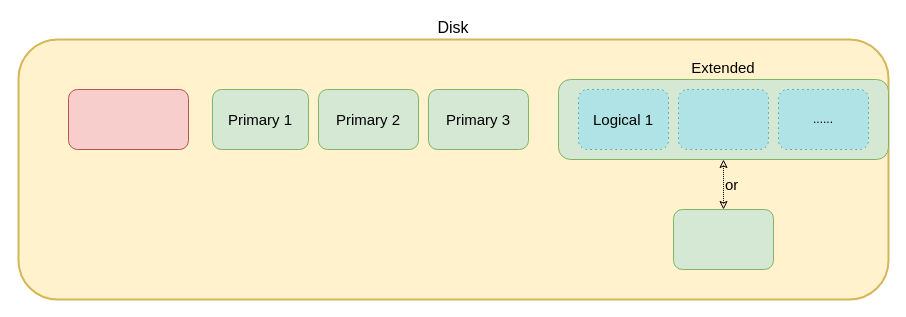
Some shapes in this 906 by 317 pixel diagram are drawn without their labels. Here are the shapes that lost their labels. From the top down, the centre of each, then its label:
At point 128,119: "MBR".
At point 723,119: "Logical 2".
At point 723,239: "Primary 4".
